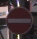No entry: (5, 6, 32, 34)
